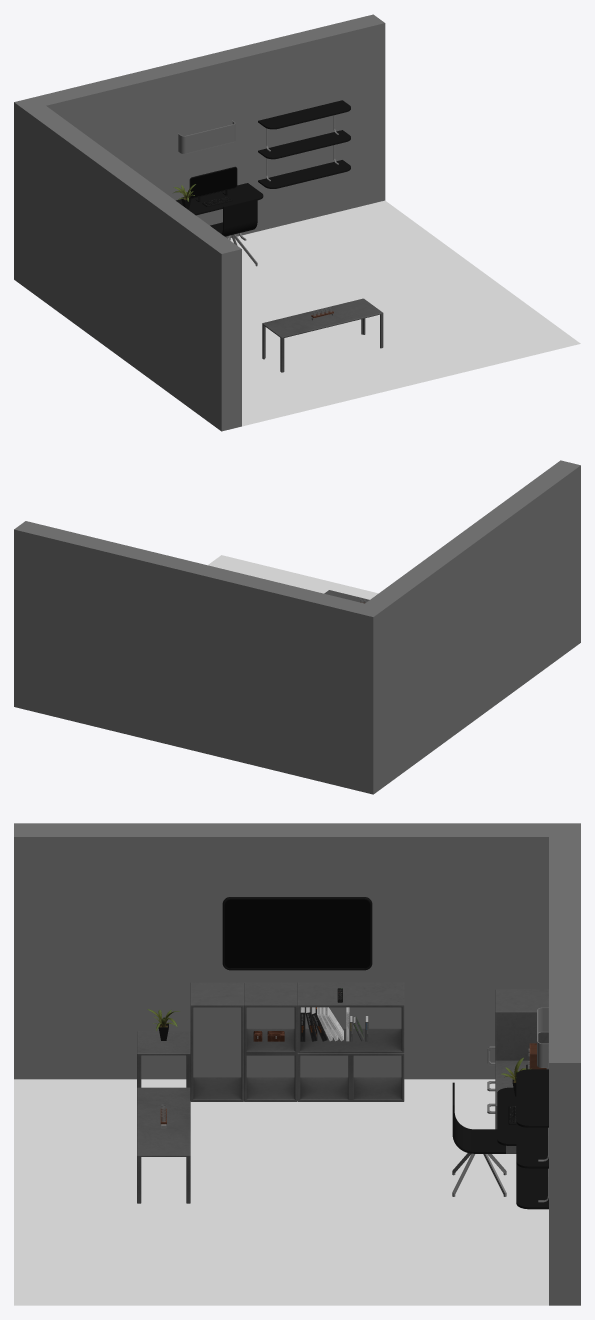
File: Room_Environment.fbx
3 views of the same model, one above another, from view 1: azimuth 30°, elevation 25°; view 2: azimuth 150°, elevation 25°; view 3: azimuth 270°, elevation 25° (orthographic). The views are drawn at different scales.
Visible parts, largest first — view 1: Wall, Floor, Wall_Shelves, Rectangular_Table, Chair_Body, Metal_Sign, Desk, Computer; view 2: Wall, Floor; view 3: Wall, Floor, Television_Screen, Tall_Shelf2, Wall_Shelves, Box_Shelves, Rectangular_Table, Box_Shelves2, Wardrobe, Tall_Shelf, Square_Table, Chair_Body (+4 smaller).
Part boxes in pixels (left/top/right/bottom): Wall: left=14, top=14, right=385, bottom=431; Floor: left=228, top=200, right=580, bottom=426; Wall_Shelves: left=258, top=100, right=350, bottom=188; Rectangular_Table: left=262, top=298, right=383, bottom=372; Chair_Body: left=210, top=198, right=257, bottom=236; Metal_Sign: left=178, top=120, right=235, bottom=153; Desk: left=176, top=183, right=263, bottom=215; Computer: left=189, top=166, right=237, bottom=198; Wall: left=14, top=460, right=580, bottom=794; Floor: left=208, top=555, right=378, bottom=599; Wall: left=14, top=823, right=580, bottom=1305; Floor: left=14, top=1079, right=548, bottom=1305; Television_Screen: left=222, top=897, right=372, bottom=970; Tall_Shelf2: left=297, top=982, right=404, bottom=1053; Wall_Shelves: left=516, top=1069, right=548, bottom=1209; Box_Shelves: left=244, top=982, right=297, bottom=1101; Rectangular_Table: left=137, top=1087, right=190, bottom=1203; Box_Shelves2: left=297, top=1053, right=404, bottom=1101; Wardrobe: left=495, top=989, right=548, bottom=1060; Tall_Shelf: left=190, top=982, right=243, bottom=1101; Square_Table: left=137, top=1031, right=190, bottom=1087; Chair_Body: left=452, top=1082, right=505, bottom=1153.
Bounding box in the file's own units: 530 × 250 × 530.
